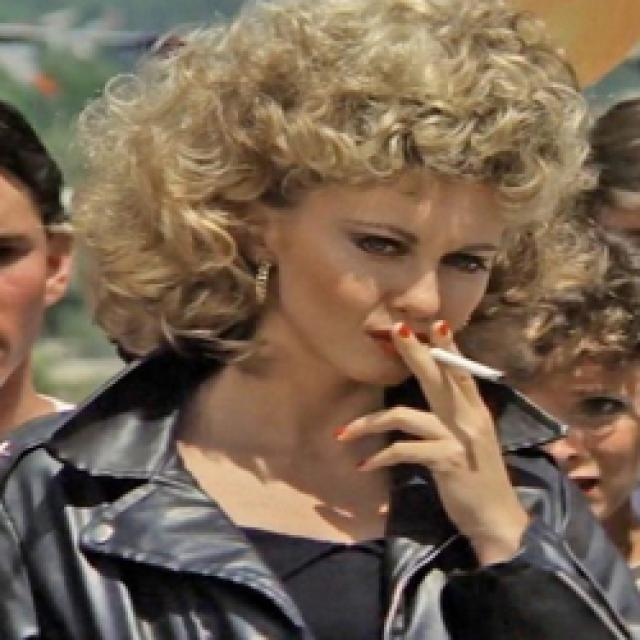Smooking: (407, 330, 511, 386)
